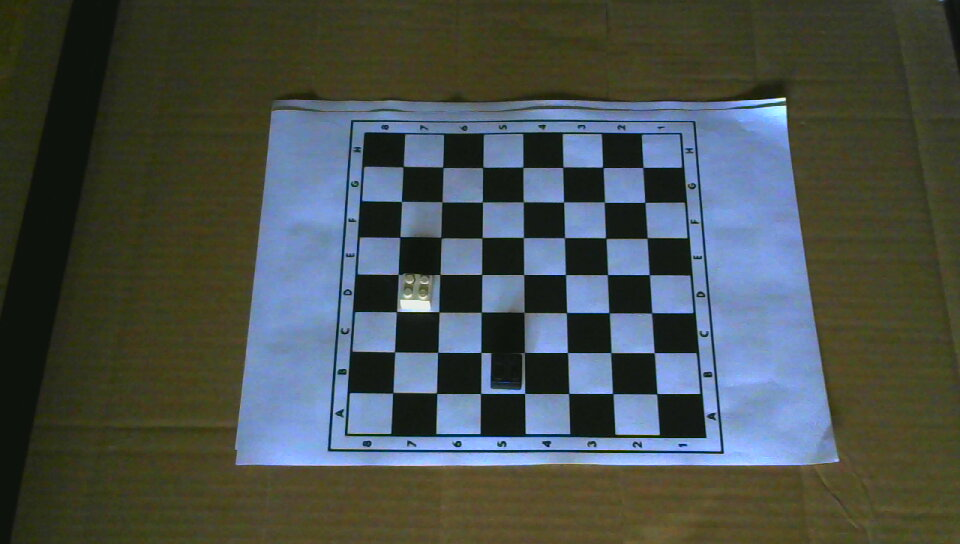bp: (488, 349, 524, 391)
wp: (398, 269, 435, 310)
